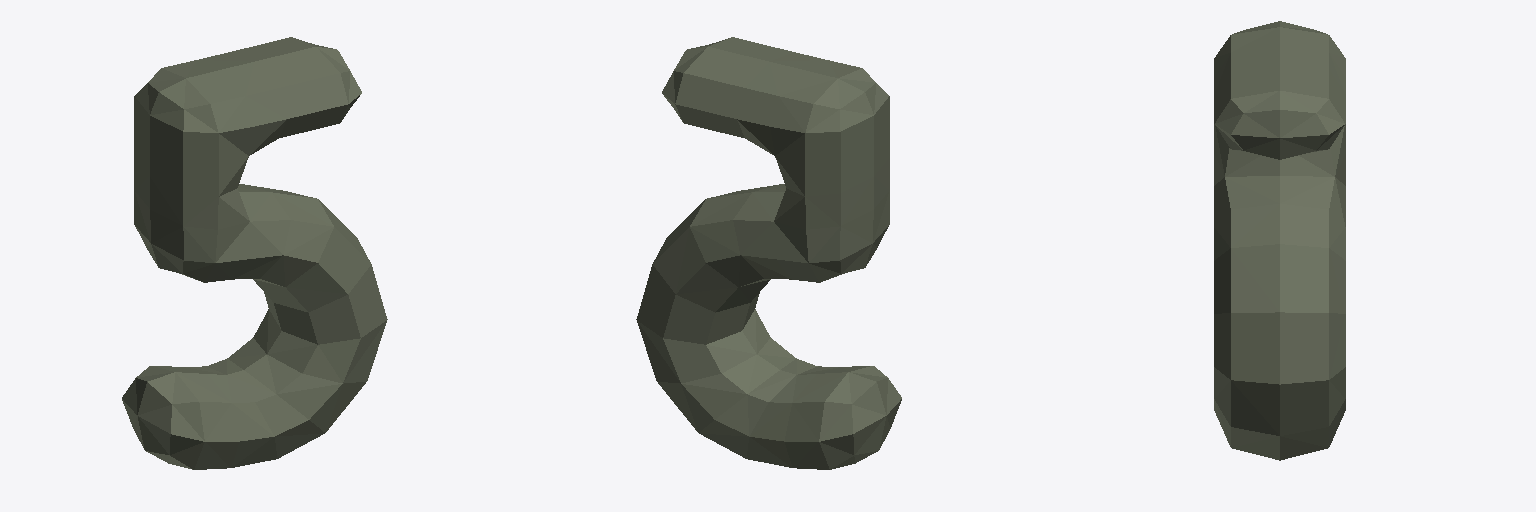
The model's file is Numbers_5.obj.
The picture shows the model from 3 angles: view 1: azimuth 30°, elevation 25°; view 2: azimuth 150°, elevation 25°; view 3: azimuth 270°, elevation 25°; orthographic projection.
Visible parts, largest first — view 1: Numbers_5_Cube.035; view 2: Numbers_5_Cube.035; view 3: Numbers_5_Cube.035.
Part boxes in pixels (left/top/right/bottom): Numbers_5_Cube.035: left=122, top=37, right=387, bottom=469; Numbers_5_Cube.035: left=636, top=37, right=901, bottom=469; Numbers_5_Cube.035: left=1214, top=21, right=1345, bottom=460.
Bounding box in the file's own units: 0.7173 × 1.12 × 0.3432.